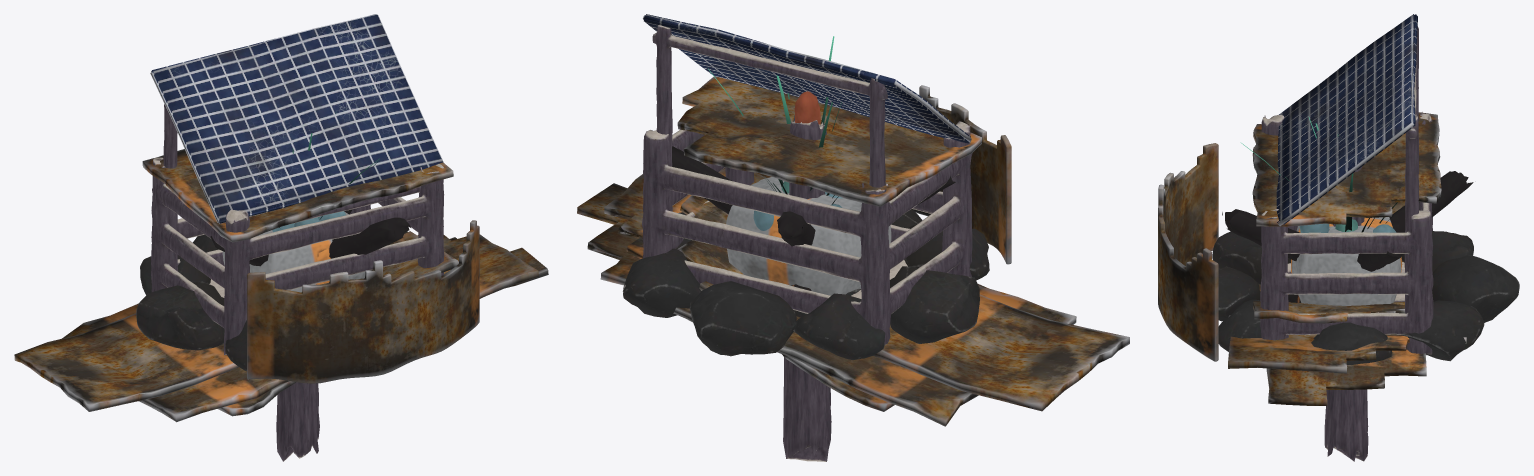
File: props.glb
The picture shows the model from 3 angles, left to right: view 1: azimuth 30°, elevation 25°; view 2: azimuth 150°, elevation 25°; view 3: azimuth 270°, elevation 25°; orthographic projection. The views are drawn at different scales.
Visible parts, largest first — view 1: Solar_Panel, Campfire_Scrap, Crate_Wood, Debris_3, Debris_1, Crate_Lid, Campfire_Stones, Stalkwood, Campfire_Wood, Debris_2, Solar_Frame, Pack; view 2: Crate_Wood, Campfire_Stones, Crate_Lid, Debris_3, Solar_Panel, Debris_1, Solar_Frame, Pack, Campfire_Scrap, Stalkwood, Debris_2, Campfire_Wood (+2 smaller); view 3: Solar_Panel, Campfire_Stones, Crate_Wood, Campfire_Scrap, Crate_Lid, Debris_3, Debris_1, Pack, Stalkwood, Campfire_Wood, Debris_2, Solar_Frame (+1 smaller).
Part boxes in pixels (x1,y1,x2,y2): Solar_Panel: (150,14,443,223); Campfire_Scrap: (247,220,479,383); Crate_Wood: (151,157,444,355); Debris_3: (14,237,548,411); Debris_1: (62,231,538,422); Crate_Lid: (142,149,453,242); Campfire_Stones: (136,234,246,371); Stalkwood: (276,382,319,461); Campfire_Wood: (210,209,410,266); Debris_2: (217,231,458,416); Solar_Frame: (163,104,420,287); Pack: (222,212,364,292); Crate_Wood: (641,121,972,344); Campfire_Stones: (623,209,989,359); Crate_Lid: (677,76,981,206); Debris_3: (577,183,1129,411); Solar_Panel: (643,14,971,143); Debris_1: (604,174,1076,426); Solar_Frame: (652,25,954,274); Pack: (726,177,891,295); Campfire_Scrap: (756,85,1011,264); Stalkwood: (783,115,831,461); Debris_2: (677,167,894,411); Campfire_Wood: (672,146,955,290); Solar_Panel: (1276,14,1417,226); Campfire_Stones: (1212,231,1519,364); Crate_Wood: (1260,112,1433,355); Campfire_Scrap: (1158,143,1218,361); Crate_Lid: (1252,112,1441,226); Debris_3: (1266,202,1426,405); Debris_1: (1228,284,1466,373); Pack: (1291,217,1402,305); Stalkwood: (1324,166,1368,461); Campfire_Wood: (1222,171,1473,302); Debris_2: (1253,301,1404,323); Solar_Frame: (1284,26,1419,349).
Bounding box in the file's own units: 2.06 × 1.66 × 1.38.
Materials: 18 (17 with a texture image).
